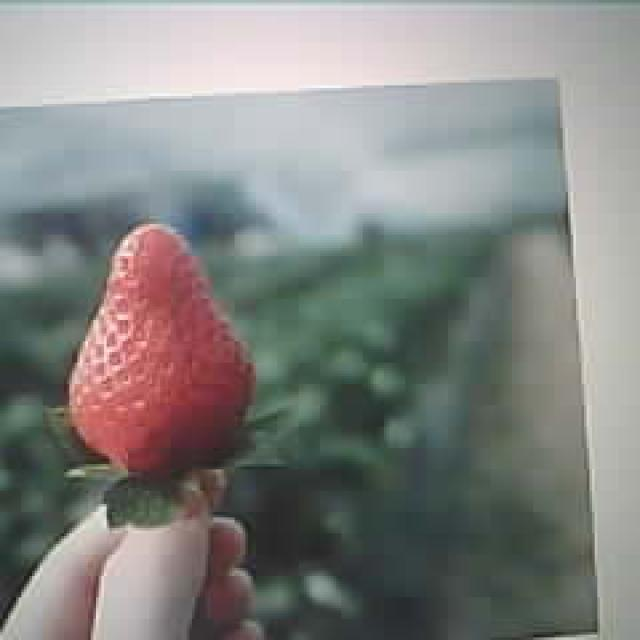ripe: (71, 226, 254, 471)
